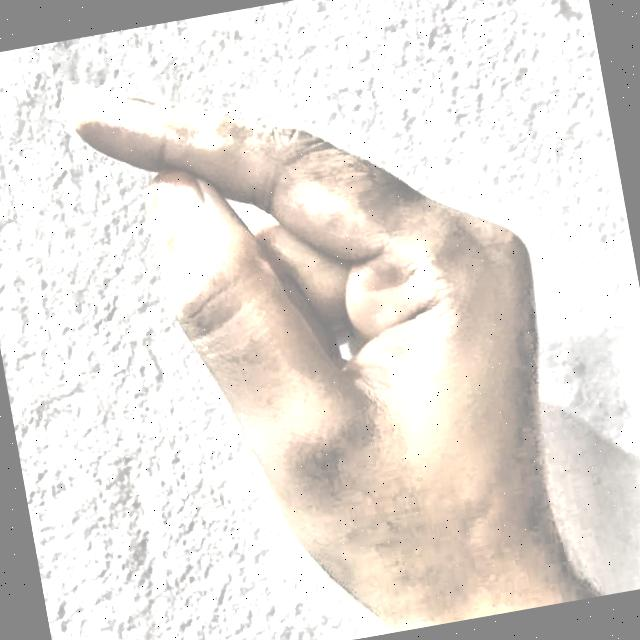Tha: (31, 0, 616, 640)
